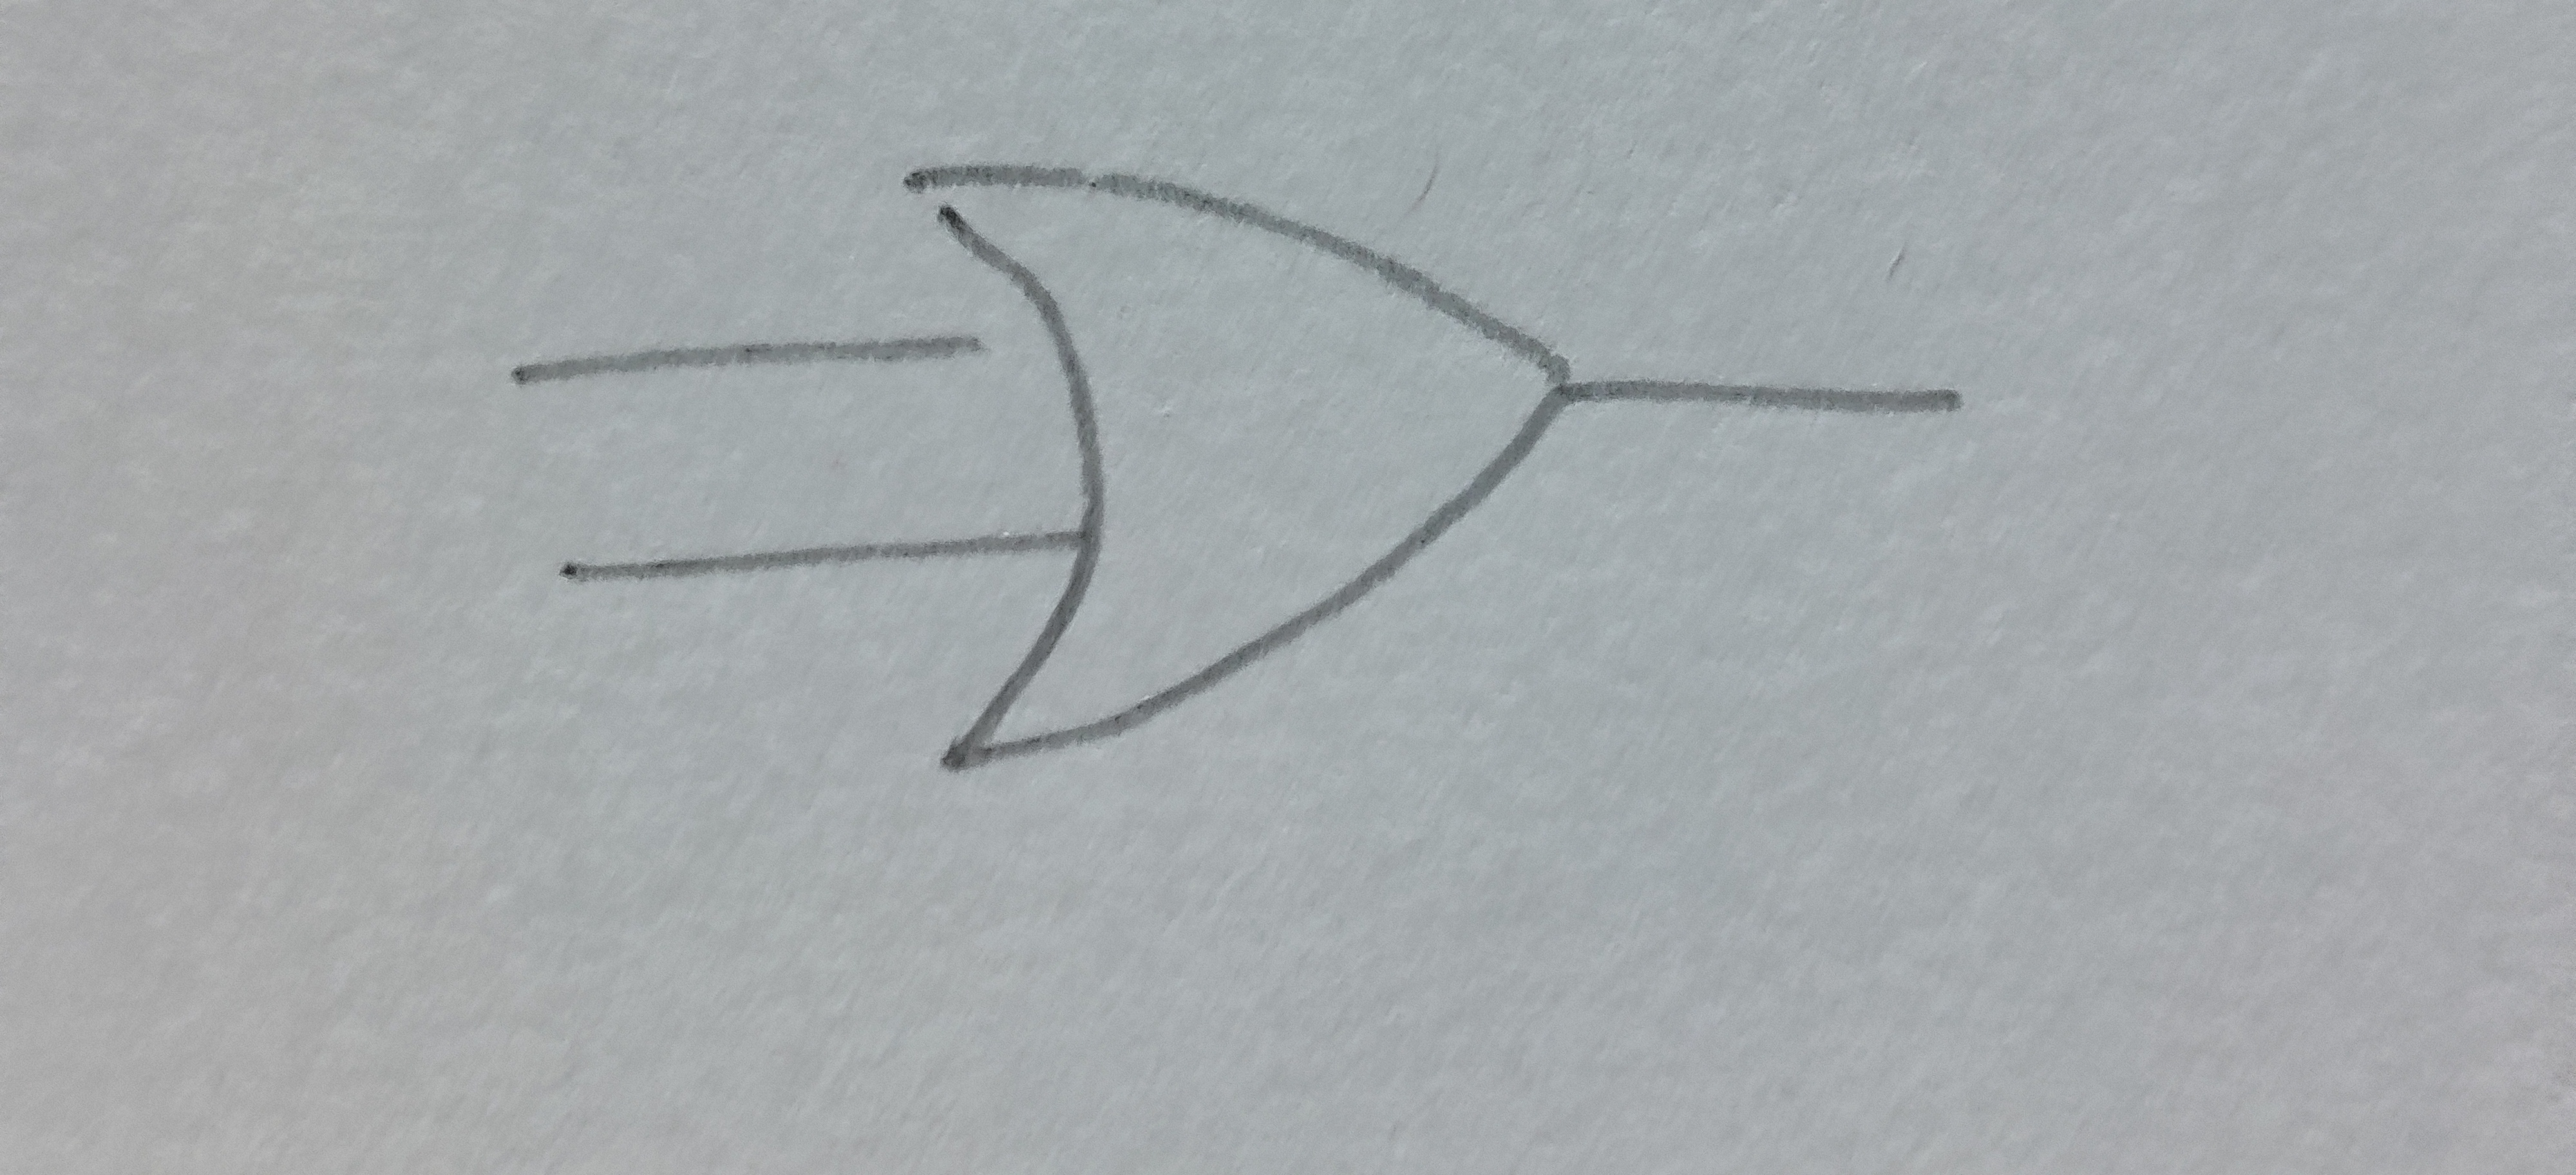or: (904, 168, 1569, 776)
